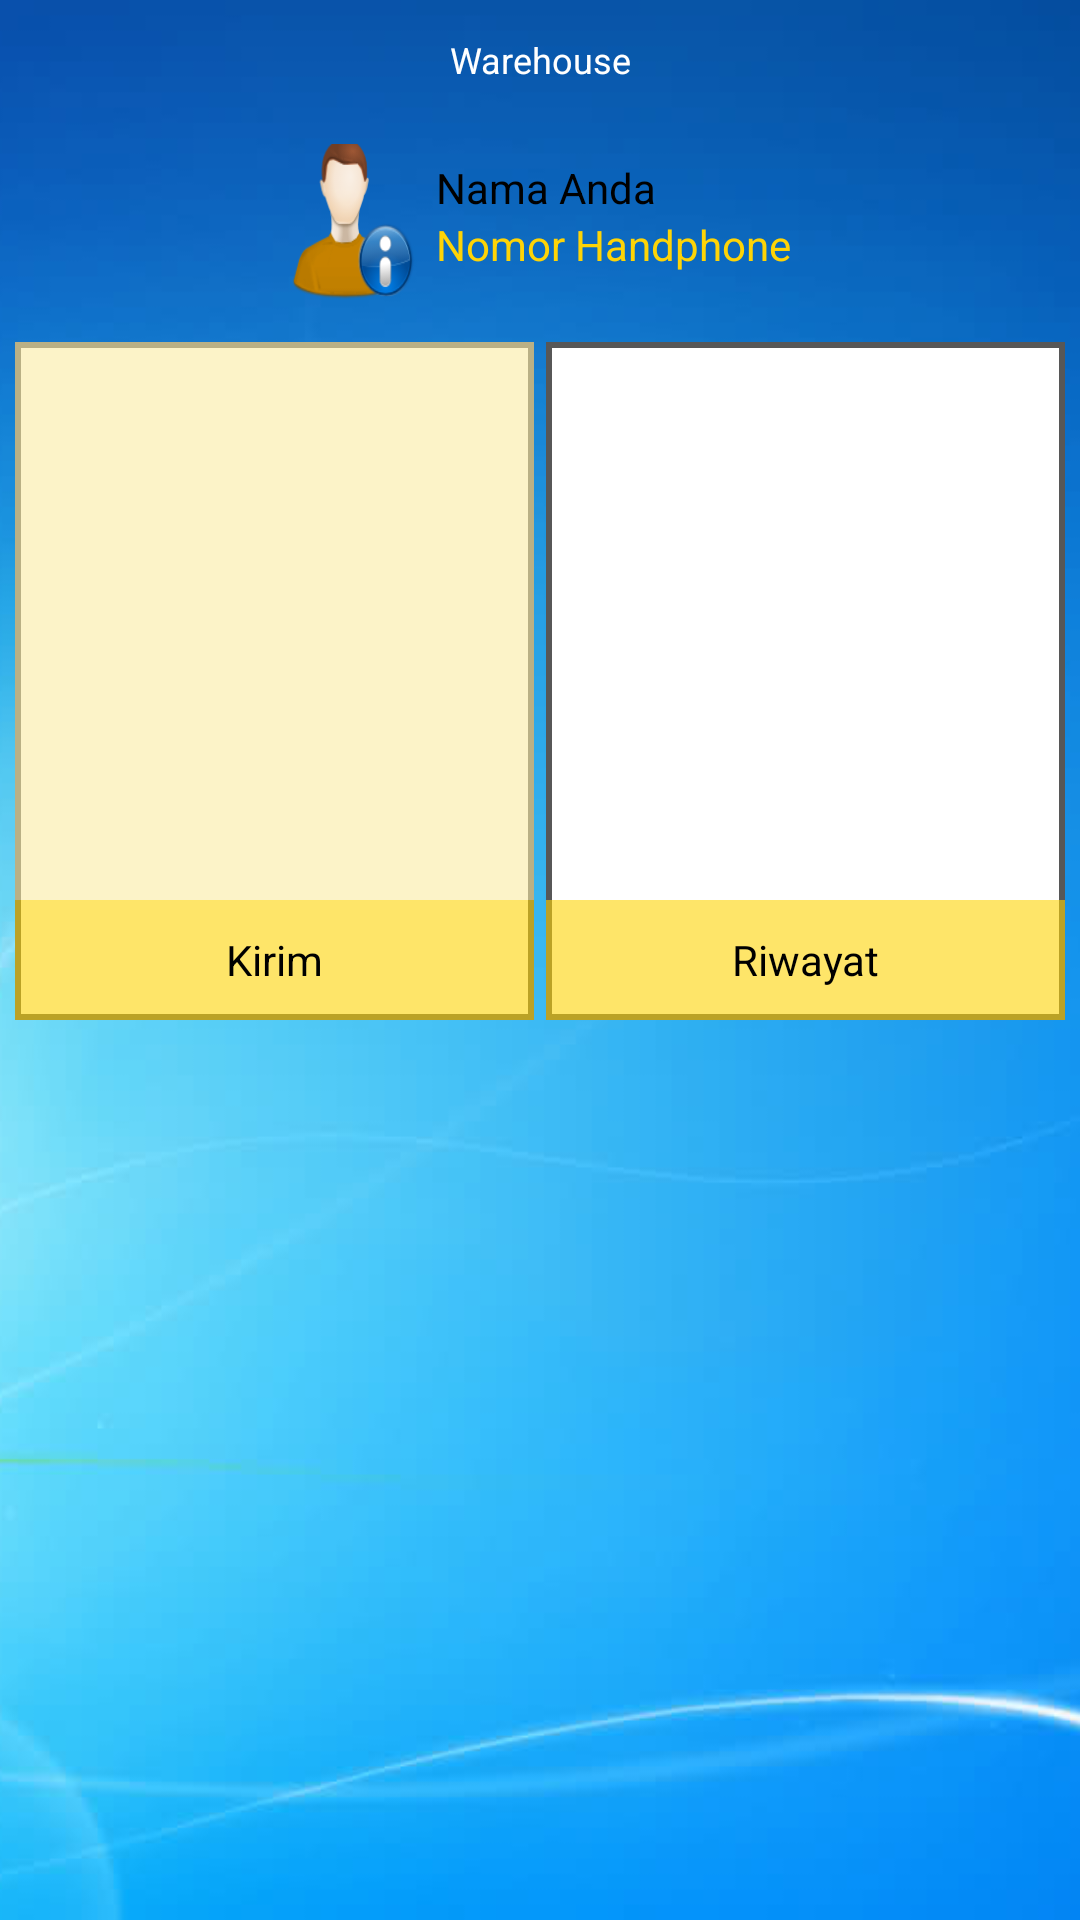

Screen size 1080*1920. Icon name, then its box in pixels as region(x1, y1, x2, y2):
prefuser: region(293, 144, 412, 298)
